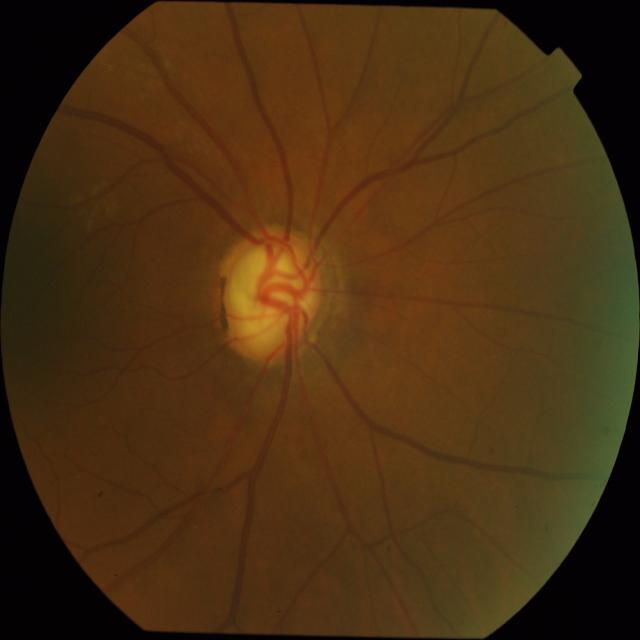OC: (232, 244, 315, 333)
OD: (218, 230, 322, 361)
